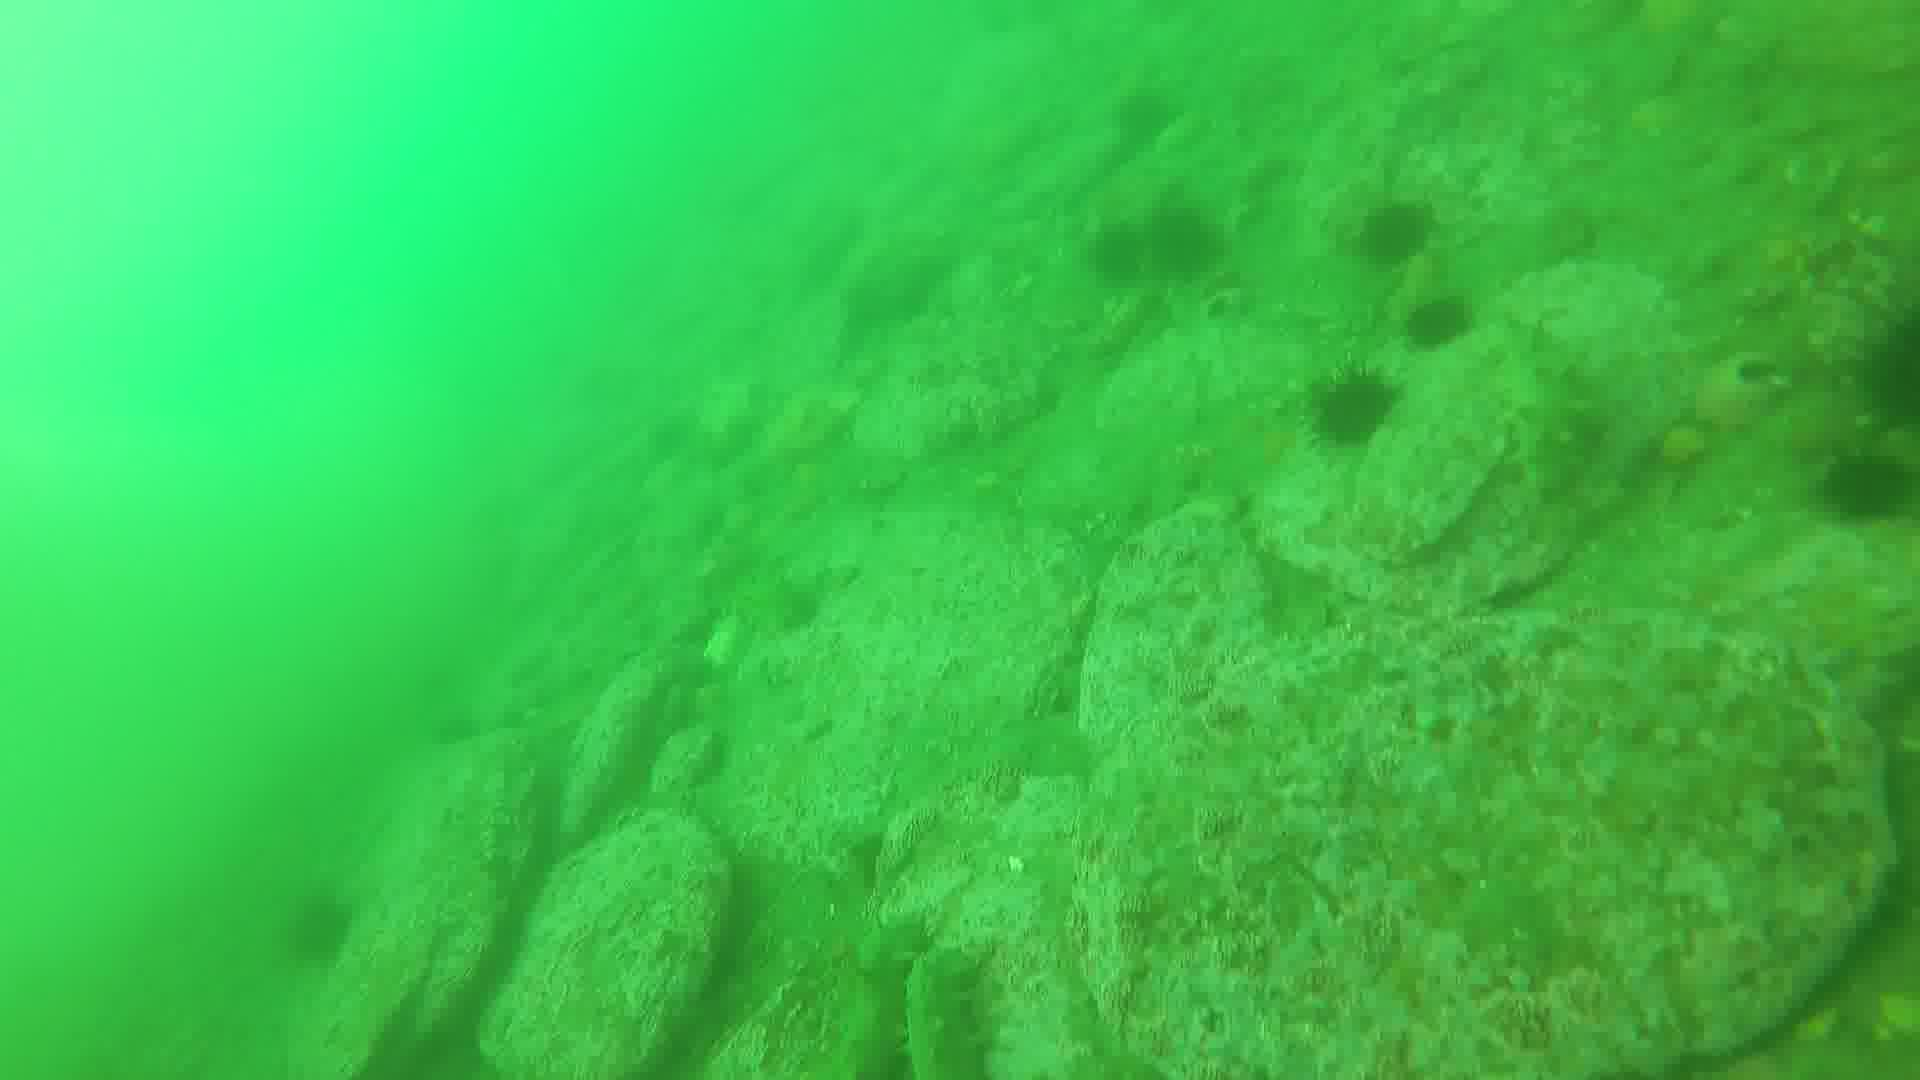echinus: (1849, 309, 1920, 442), (1307, 375, 1395, 452), (1141, 200, 1222, 284), (1832, 448, 1920, 525), (280, 882, 353, 967), (1357, 203, 1437, 269), (1081, 222, 1154, 293), (1407, 293, 1480, 353)
holothurian: (847, 919, 926, 1080), (902, 949, 996, 1080), (716, 570, 820, 630)
